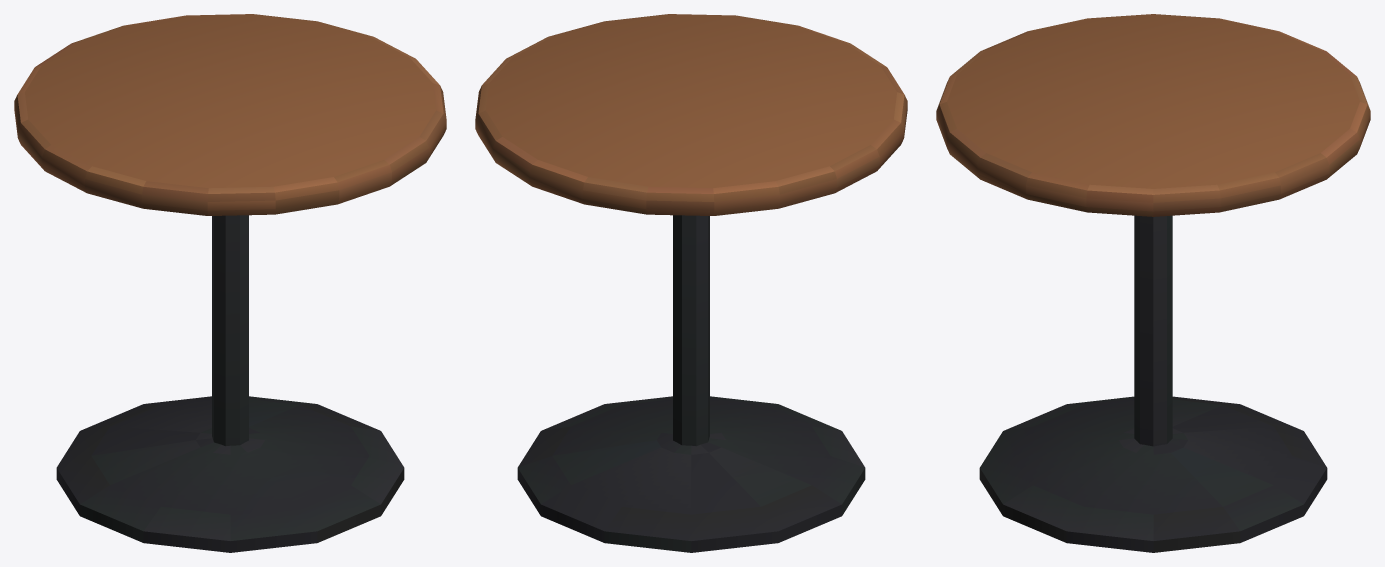
The model's file is cafe-table.glb.
The picture shows the model from 3 angles, left to right: view 1: azimuth 30°, elevation 25°; view 2: azimuth 150°, elevation 25°; view 3: azimuth 270°, elevation 25°; orthographic projection.
Parts seen in each view (by area): view 1: cafe-table; view 2: cafe-table; view 3: cafe-table.
Part boxes in pixels (left/top/right/bottom): cafe-table: left=14, top=14, right=446, bottom=552; cafe-table: left=475, top=14, right=907, bottom=552; cafe-table: left=936, top=14, right=1370, bottom=552.
Bounding box in the file's own units: 0.5 × 0.48 × 0.5.
